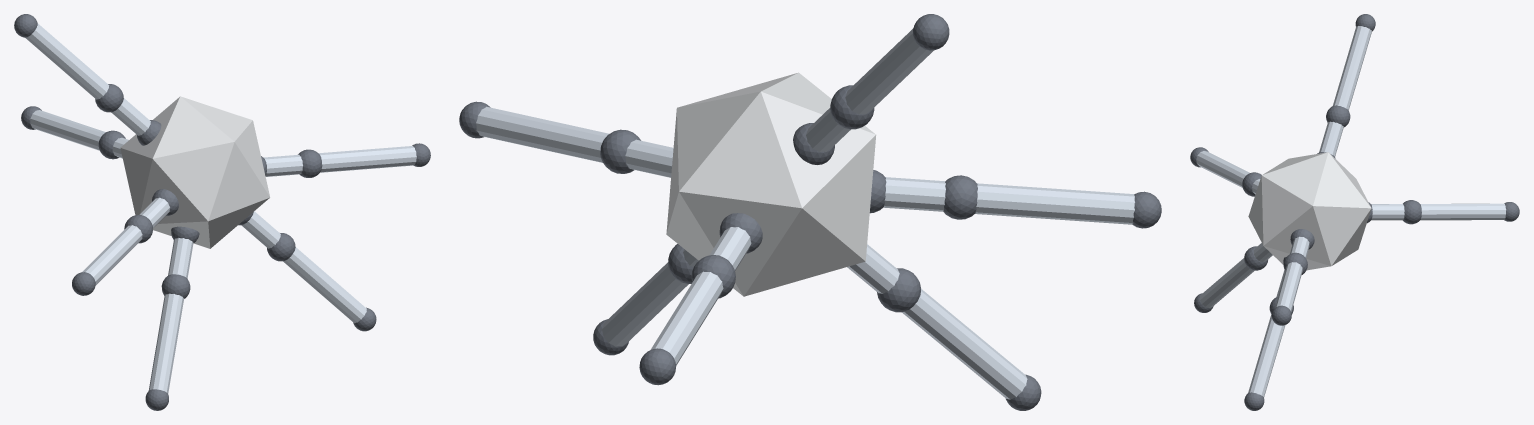
Rendered from hexapod_abs.glb.
3 renders of one model, left to right at view 1: azimuth 30°, elevation 25°; view 2: azimuth 150°, elevation 25°; view 3: azimuth 270°, elevation 25°, orthographic. The views are drawn at different scales.
Visible parts, largest first — view 1: geom_0, geom_14, geom_24, geom_9, geom_19, geom_29, geom_4, geom_12, geom_22, geom_7, geom_17, geom_13 (+9 smaller); view 2: geom_0, geom_4, geom_14, geom_24, geom_9, geom_19, geom_29, geom_2, geom_22, geom_3, geom_12, geom_13 (+13 smaller); view 3: geom_0, geom_29, geom_9, geom_19, geom_14, geom_4, geom_24, geom_27, geom_7, geom_28, geom_8, geom_25 (+2 smaller).
Boxes of the visible parts, x1,y1,x2,y2 form: geom_0: (120,96,270,248); geom_14: (148,293,184,393); geom_24: (319,146,416,172); geom_9: (25,23,109,99); geom_19: (283,247,366,323); geom_29: (30,110,105,150); geom_4: (82,225,142,285); geom_12: (168,238,193,278); geom_22: (263,154,302,176); geom_7: (111,98,150,135); geom_17: (241,211,280,248); geom_13: (161,274,190,298); geom_0: (666,72,876,296); geom_4: (975,183,1134,224); geom_14: (902,289,1027,399); geom_24: (476,106,609,162); geom_9: (845,28,933,114); geom_19: (602,262,688,346); geom_29: (650,271,723,365); geom_2: (883,177,945,211); geom_22: (625,139,673,177); geom_3: (943,175,977,219); geom_12: (847,244,899,293); geom_13: (877,268,920,312); geom_0: (1248,152,1371,270); geom_29: (1420,203,1506,220); geom_9: (1333,25,1371,110); geom_19: (1248,313,1285,397); geom_14: (1200,258,1254,307); geom_4: (1196,151,1249,187); geom_24: (1275,262,1302,311); geom_27: (1371,204,1404,220); geom_7: (1319,121,1343,156); geom_28: (1403,200,1421,224); geom_8: (1326,105,1350,127); geom_25: (1271,305,1291,325).
Bounding box in the file's own units: 0.4684 × 0.3698 × 0.391.
